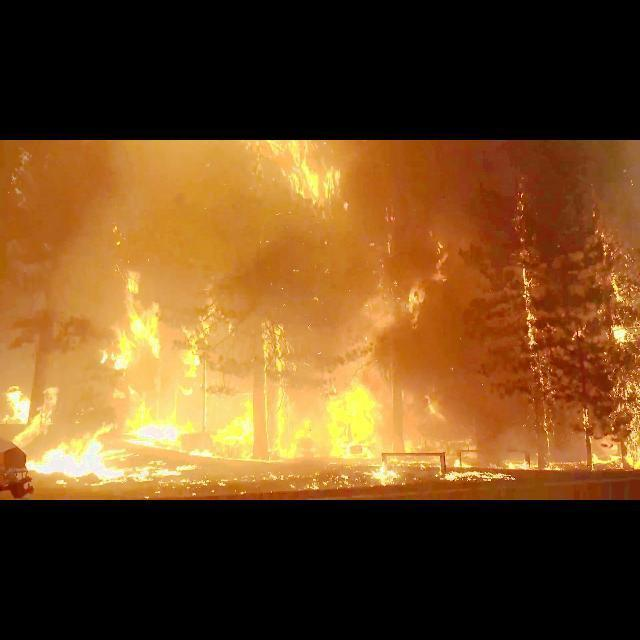Fire: (273, 379, 382, 455), (252, 140, 350, 203), (122, 381, 194, 447), (41, 418, 117, 478), (124, 278, 168, 362), (590, 404, 640, 474), (217, 398, 263, 456)
